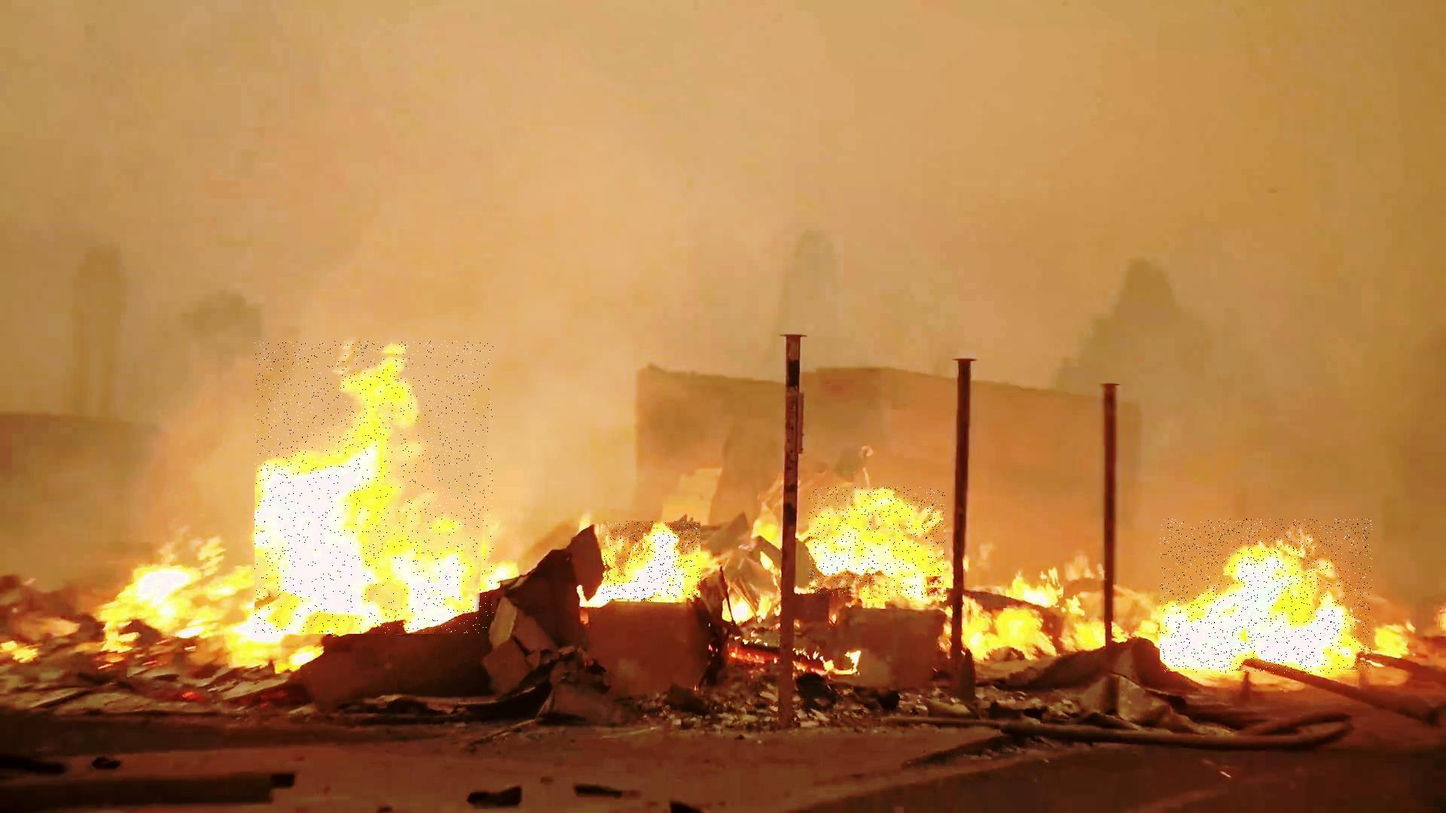fire: (255, 341, 494, 634), (1160, 519, 1373, 674), (809, 487, 946, 598), (602, 522, 701, 601)
